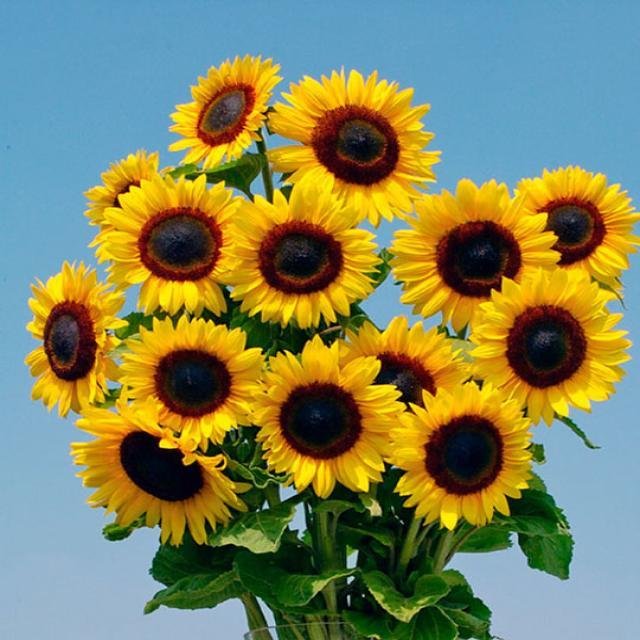sunflower: (70, 384, 253, 547), (264, 66, 441, 227), (388, 177, 560, 333), (466, 266, 632, 426), (248, 334, 404, 498), (218, 182, 382, 328), (386, 379, 534, 532), (95, 173, 242, 316), (116, 312, 264, 452), (24, 259, 127, 417), (513, 163, 639, 285), (337, 314, 467, 416), (167, 54, 282, 168), (84, 148, 179, 264)
